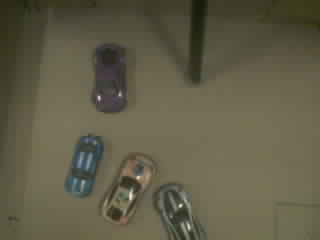Car: (101, 153, 154, 223), (155, 184, 205, 239), (93, 44, 127, 111), (66, 137, 102, 196)
